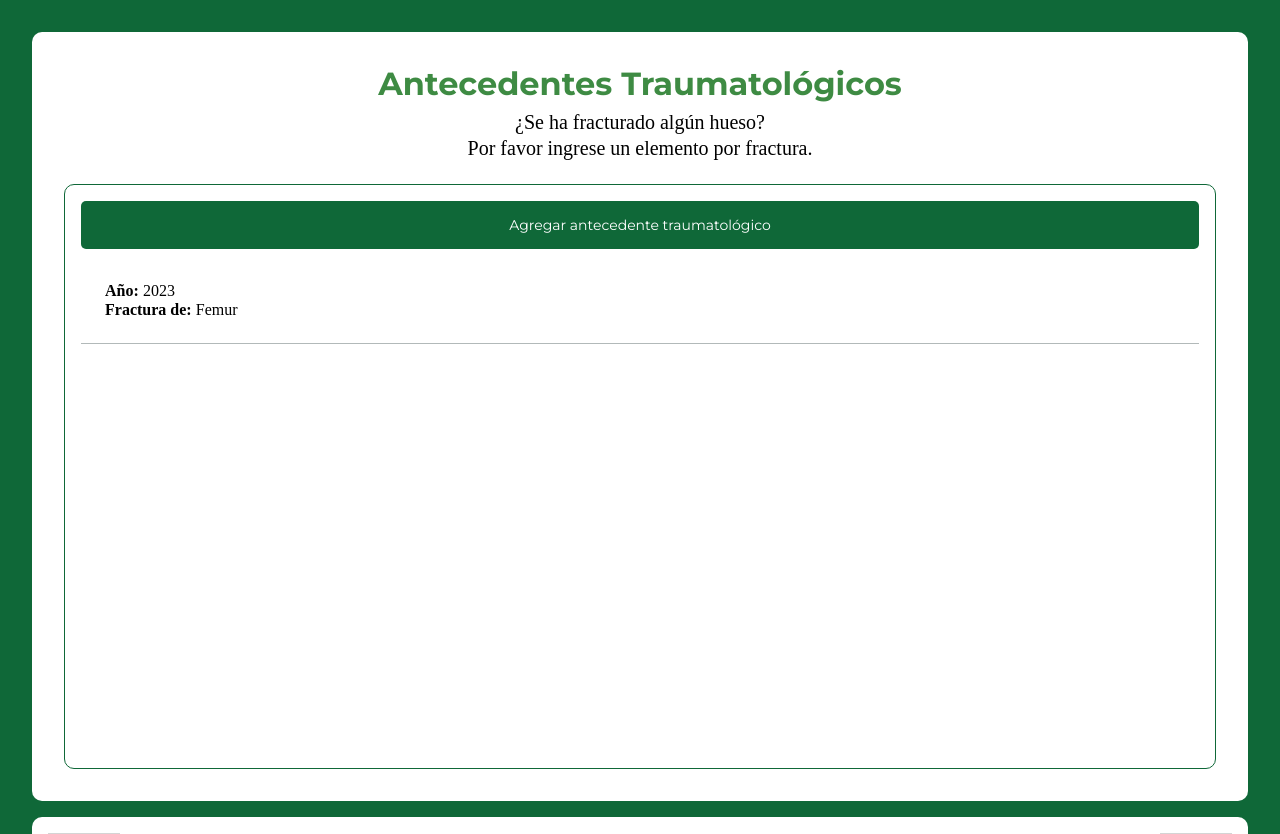
it: StudentTraumatologicalHistory Component Tests › cancels new surgical record form on button click
Click the button "Agregar antecedente traumatológico": (640, 225) x1=81 y1=201 x2=1199 y2=249
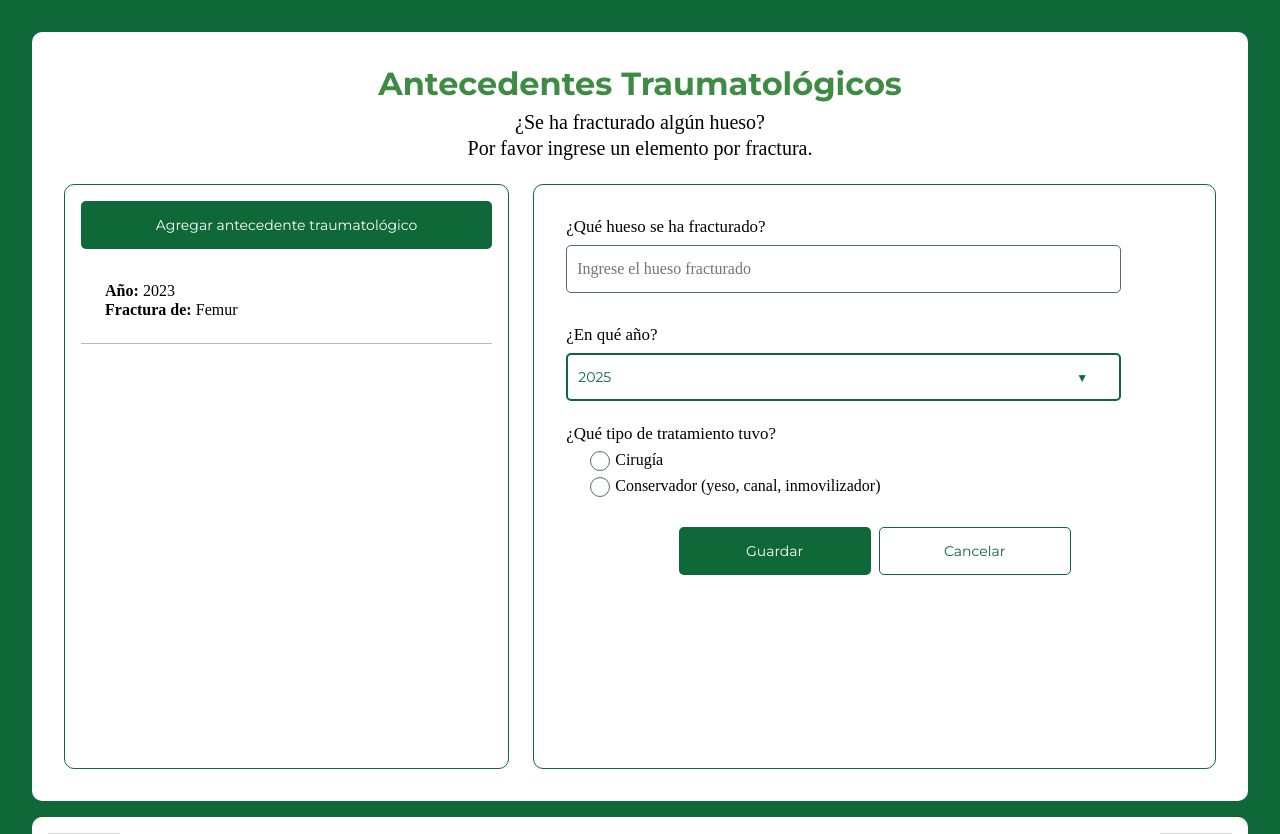
Now the text "Guardar" is shown, box x1=746 y1=542 x2=803 y2=560
Click the button "Cancelar": (975, 551) x1=879 y1=527 x2=1071 y2=575
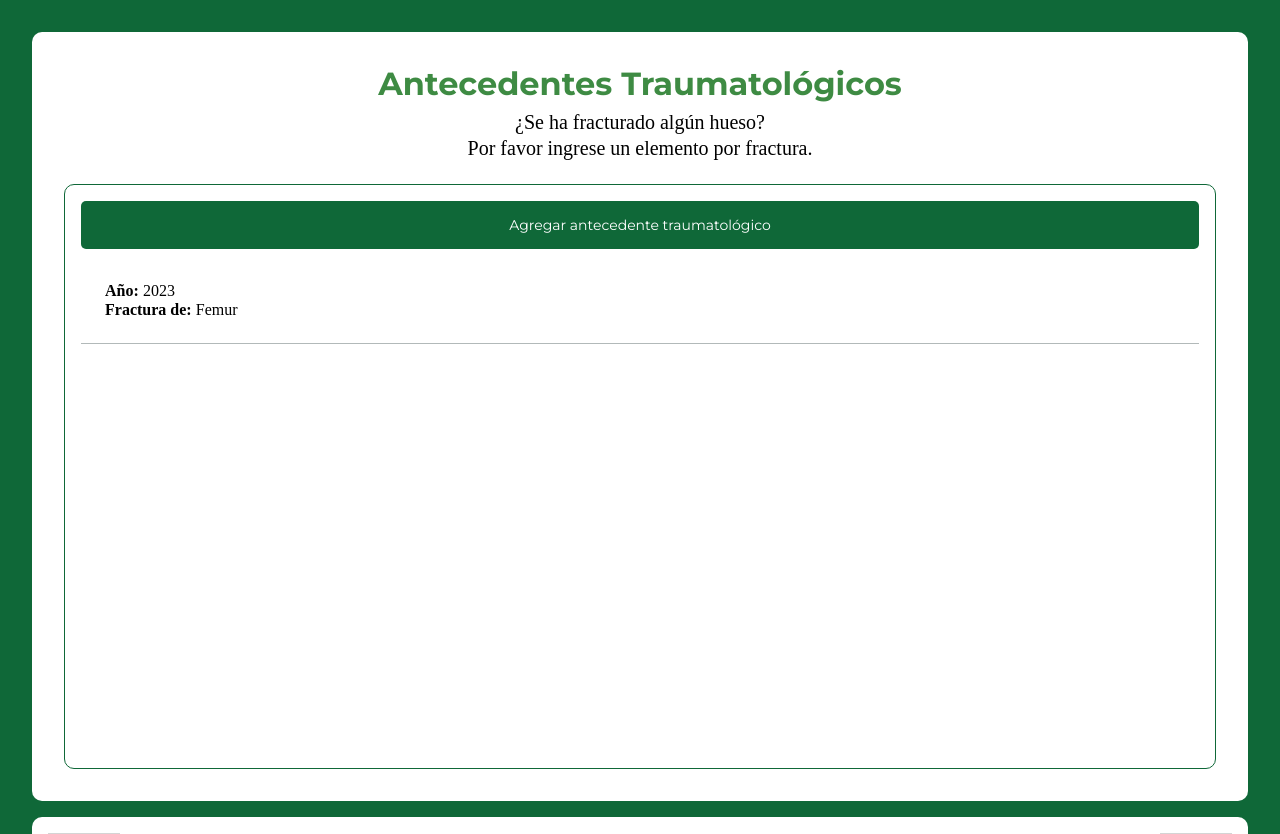
Now the button "Guardar" is gone
